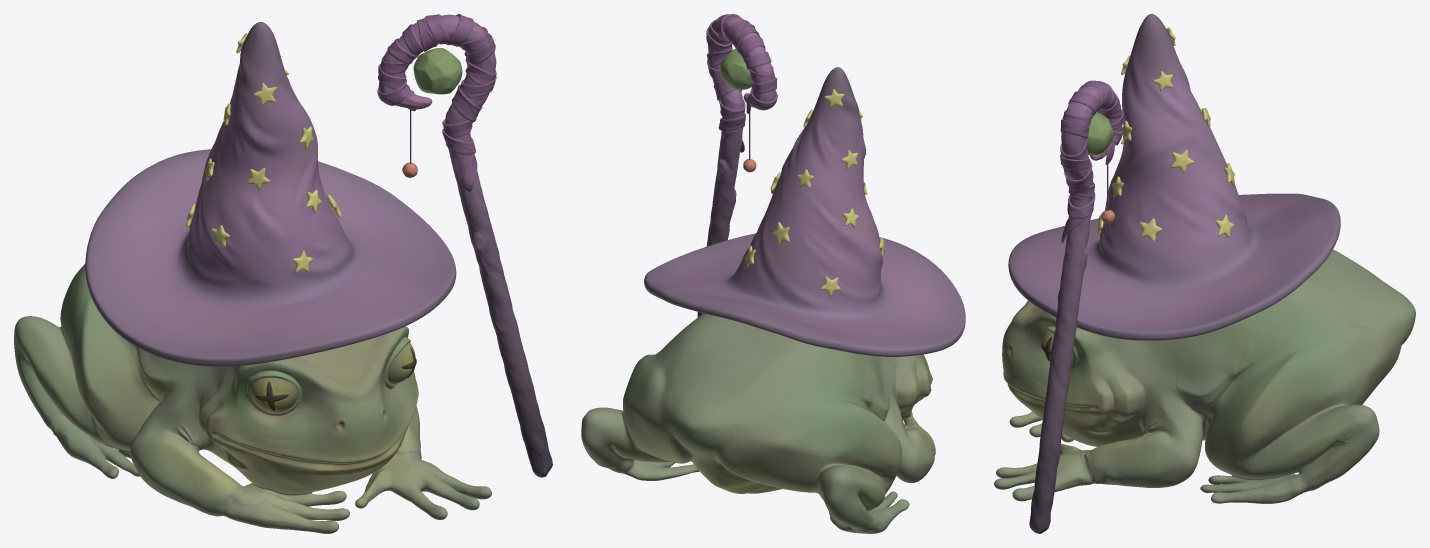
The model's file is frog3.fbx.
The picture shows the model from 3 angles, left to right: view 1: azimuth 30°, elevation 25°; view 2: azimuth 150°, elevation 25°; view 3: azimuth 270°, elevation 25°; orthographic projection. The views are drawn at different scales.
Parts seen in each view (by area): view 1: Merged_PM3D_Cylinder3D1_1, Merged_PM3D_Cylinder3D1_1_Merged_PM3D_Cylinder3D1_1_0.001; view 2: Merged_PM3D_Cylinder3D1_1, Merged_PM3D_Cylinder3D1_1_Merged_PM3D_Cylinder3D1_1_0.001; view 3: Merged_PM3D_Cylinder3D1_1, Merged_PM3D_Cylinder3D1_1_Merged_PM3D_Cylinder3D1_1_0.001.
Part boxes in pixels (x1,y1,x2,y2): Merged_PM3D_Cylinder3D1_1: (14,16,552,529); Merged_PM3D_Cylinder3D1_1_Merged_PM3D_Cylinder3D1_1_0.001: (14,14,552,533); Merged_PM3D_Cylinder3D1_1: (581,16,965,533); Merged_PM3D_Cylinder3D1_1_Merged_PM3D_Cylinder3D1_1_0.001: (581,14,965,533); Merged_PM3D_Cylinder3D1_1: (994,14,1406,533); Merged_PM3D_Cylinder3D1_1_Merged_PM3D_Cylinder3D1_1_0.001: (994,14,1415,533).
Size of the model in its own units: 288 by 347 by 315.
